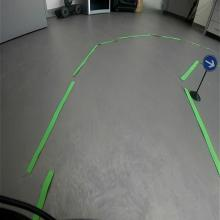right: (203, 53, 218, 72)
